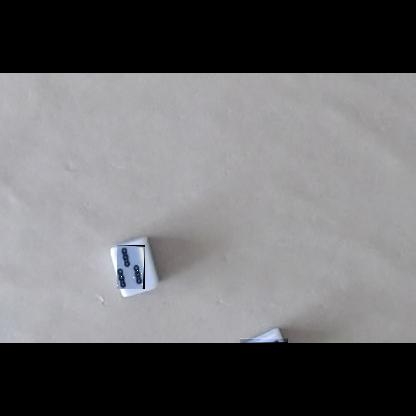3s: (117, 245, 145, 289)
9s: (240, 338, 288, 343)
